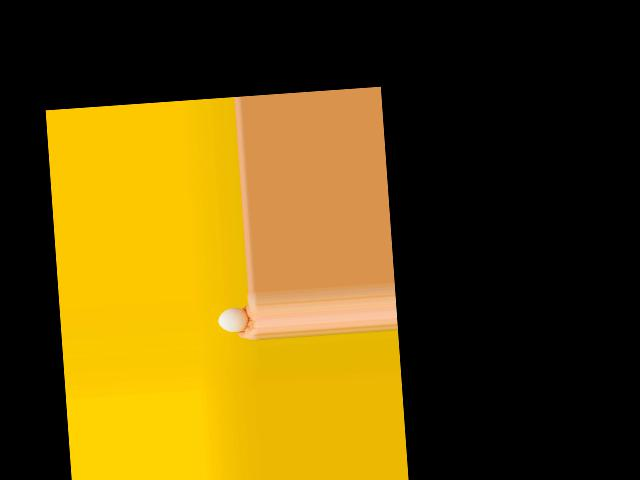egg: (217, 308, 249, 333)
